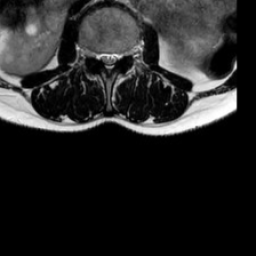CCS_normal: (105, 43, 113, 81)
LFS_stenosis: (121, 41, 131, 65)
LLS_normal: (113, 42, 121, 71)
RFS_normal: (89, 41, 97, 65)
RLS_normal: (97, 43, 105, 71)
